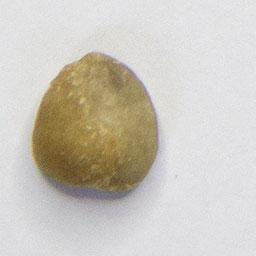defect: (29, 49, 162, 196)
